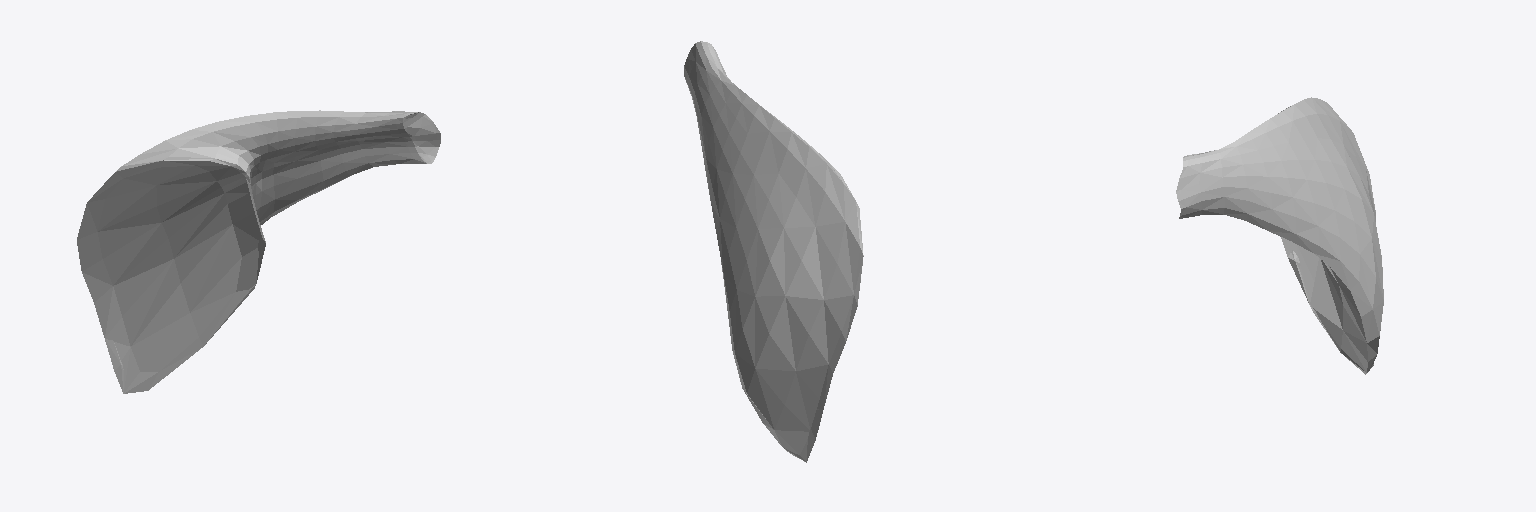
File: infraspinatus_left.obj
3 views of the same model, side by side, from view 1: azimuth 30°, elevation 25°; view 2: azimuth 150°, elevation 25°; view 3: azimuth 270°, elevation 25° (orthographic).
Visible parts, largest first — view 1: Infraspinatus_Muscle_Left; view 2: Infraspinatus_Muscle_Left; view 3: Infraspinatus_Muscle_Left.
Boxes of the visible parts, <box> form: Infraspinatus_Muscle_Left: <box>77,110,440,393</box>; Infraspinatus_Muscle_Left: <box>684,41,863,462</box>; Infraspinatus_Muscle_Left: <box>1176,97,1383,374</box>.
Bounding box in the file's own units: 1.25 × 1.35 × 0.8393.